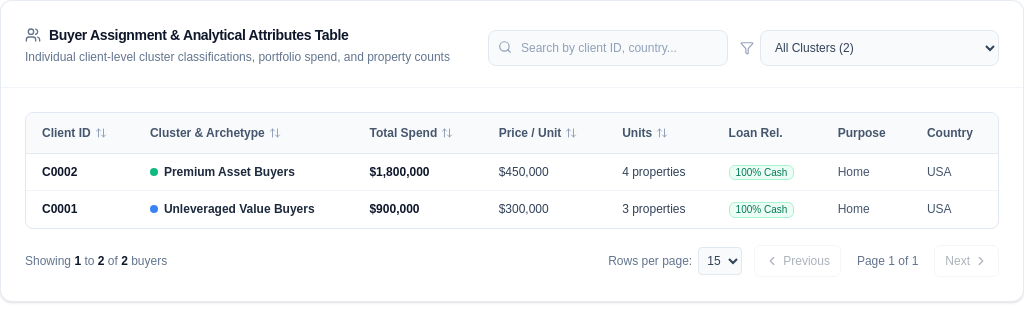
Test: BuyerAssignmentTable › filters buyers by client ID search input
Type "C0001" into the field with placeholder "Search by client ID, country..." at point(608, 48), box [488,30,728,66]
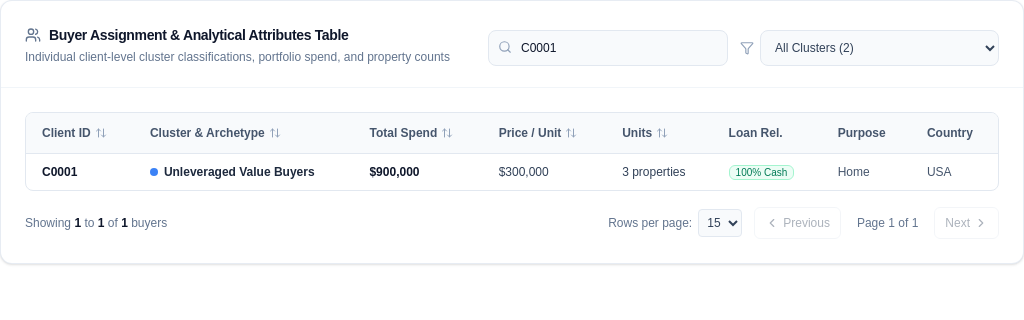
Check: the text "C0001" is shown, box [26,154,134,190]
Check: the text "C0002" is gone
